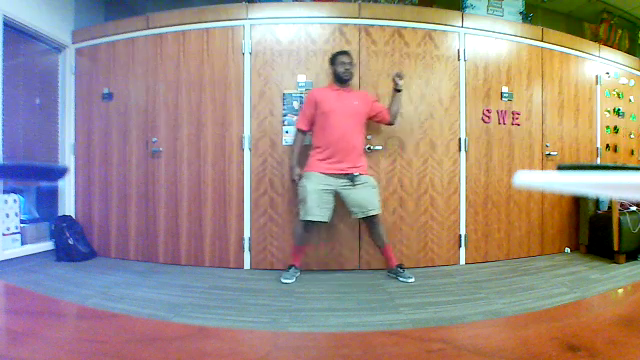up: (388, 64, 412, 96)
